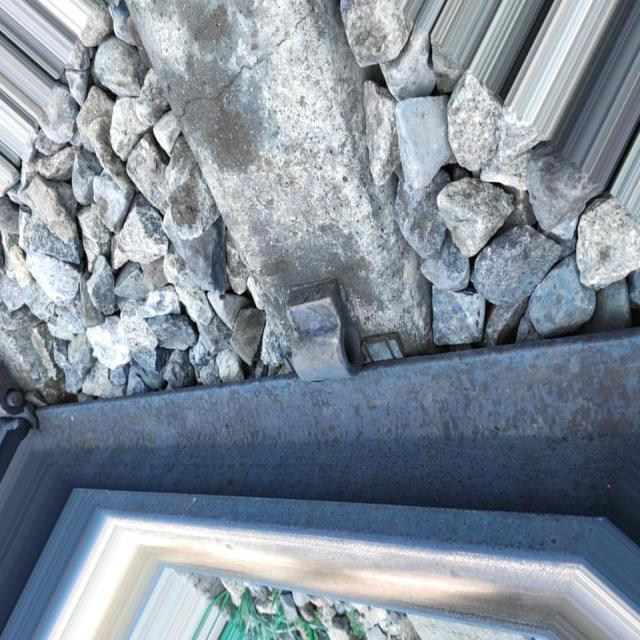Missing Fastener: (248, 240, 431, 384)
